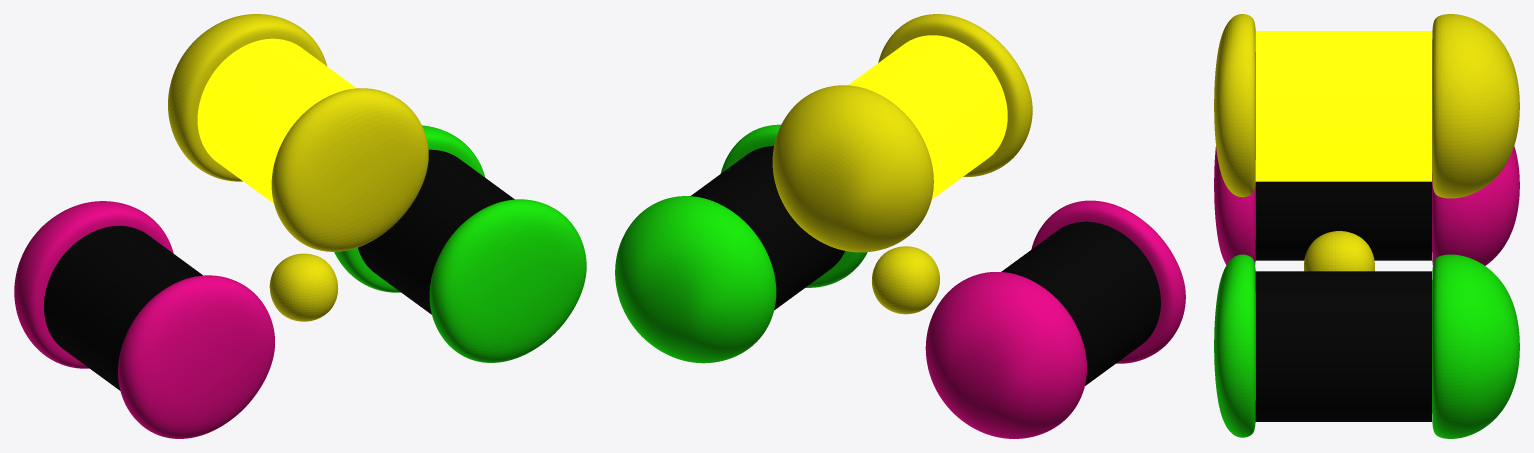
Rendered from Amarillo_Orbes.fbx.
3 views of the same model, side by side, from view 1: azimuth 30°, elevation 25°; view 2: azimuth 150°, elevation 25°; view 3: azimuth 270°, elevation 25° (orthographic). The views are drawn at different scales.
Parts seen in each view (by area): view 1: Cubo; view 2: Cubo; view 3: Cubo.
Boxes of the visible parts, left/top/right/bottom form: Cubo: left=14, top=14, right=586, bottom=438; Cubo: left=615, top=14, right=1185, bottom=438; Cubo: left=1214, top=14, right=1519, bottom=438.
Bounding box in the file's own units: 73.32 × 46.6 × 39.58.
